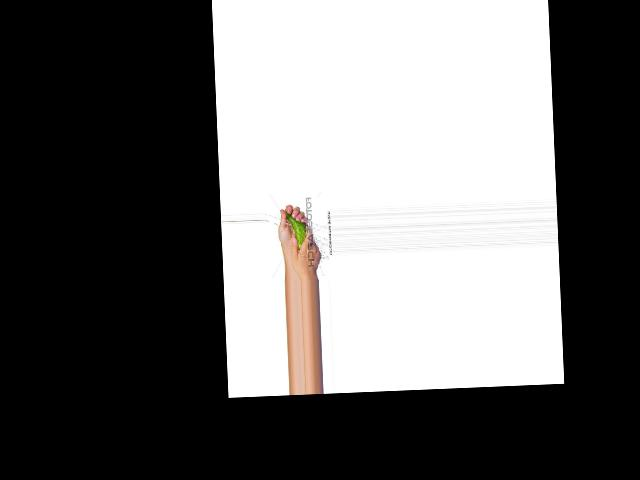cucumber: (286, 211, 308, 251)
